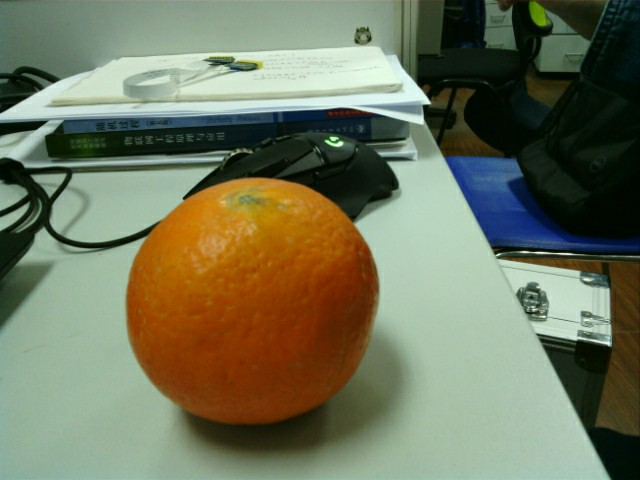normal_orange: (129, 178, 379, 424)
